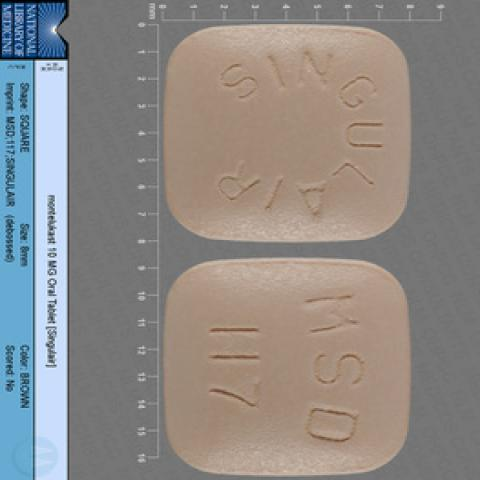Pill: (150, 245, 443, 477), (148, 13, 430, 249)
